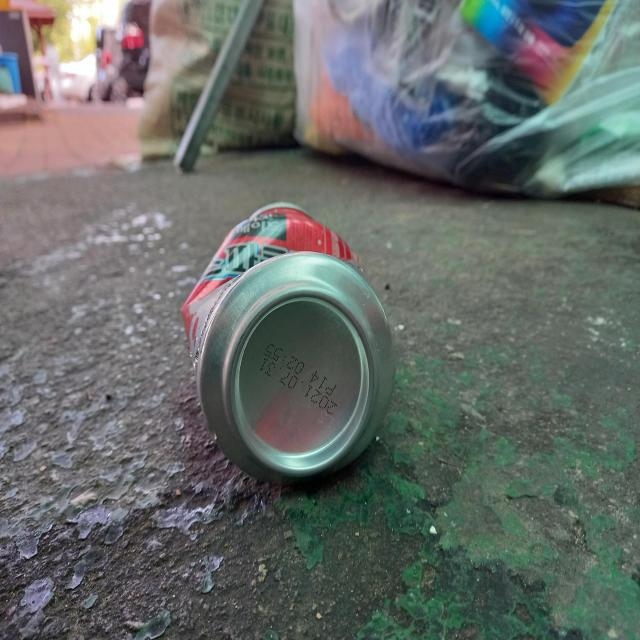can: (182, 202, 395, 482)
